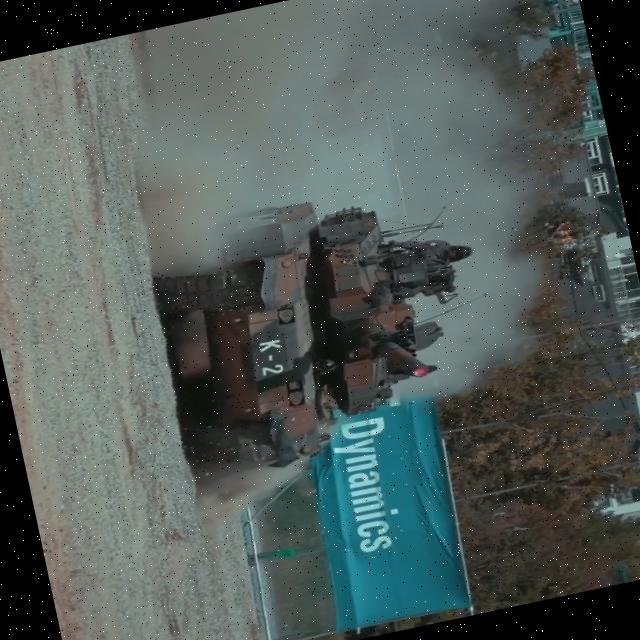korea tank: (135, 168, 508, 488)
